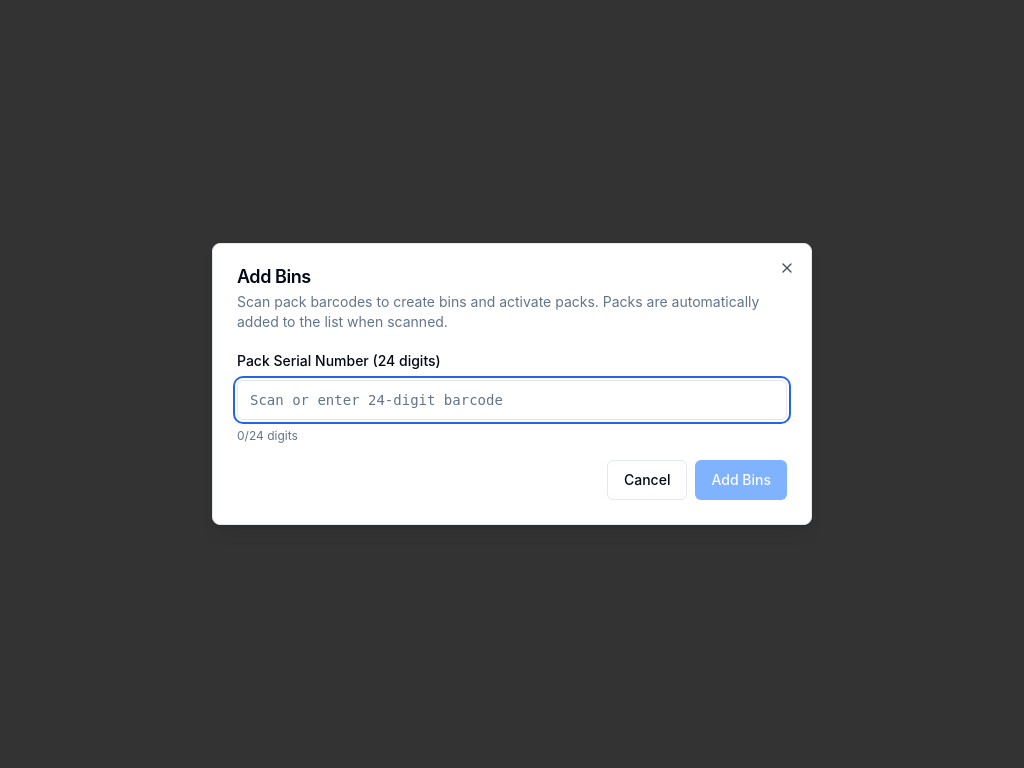
Scenario: AddBinModal (Client Dashboard) - Auto-Add Flow › Auto-Add Flow (Scan -> Validate -> Auto-Add) › should auto-validate and add pack to pending list when 24 digits entered
In the field with test id "pack-serial-input": (512, 400) [237,380,787,420], type "000155555550123456789012"
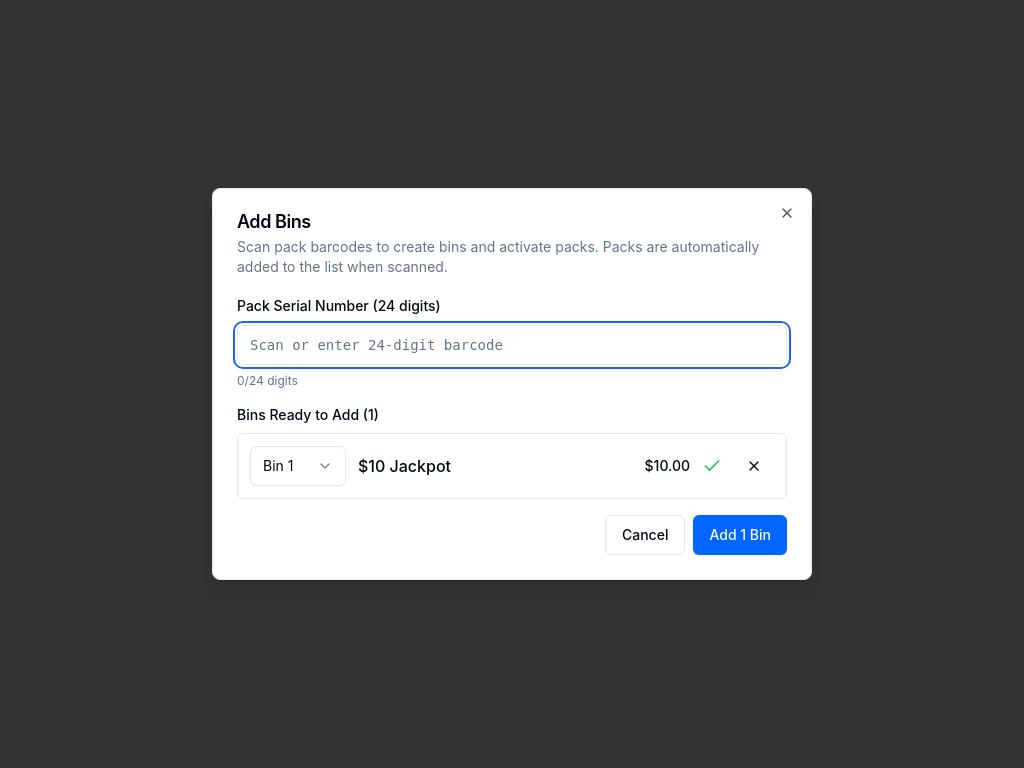
Expected: the element with test id "pending-assignments-list" is shown, [237,405,787,499]
Expected: the text "$10 Jackpot" is shown, [358,456,451,476]
Expected: the text "Bin 1" is shown, [263,456,294,476]
